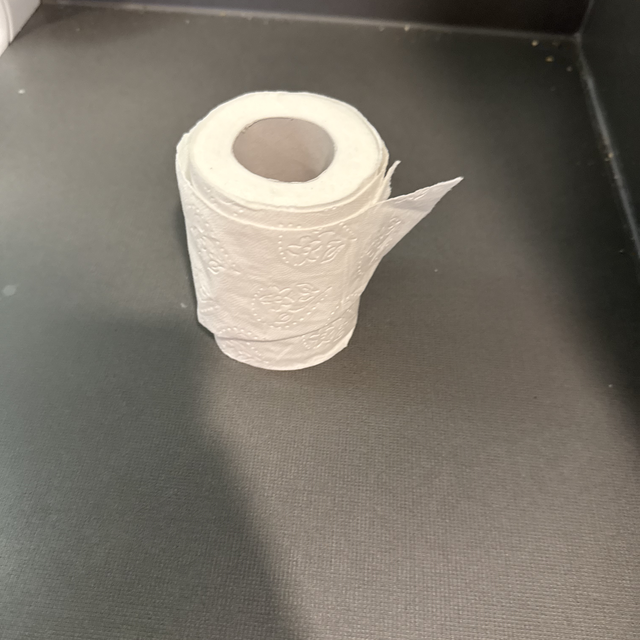Toilet Paper: (169, 84, 490, 396)
